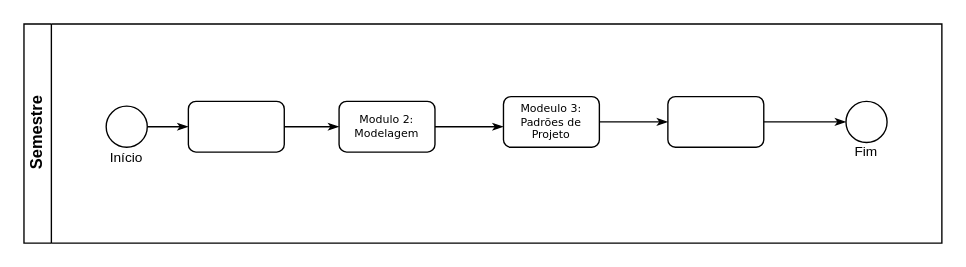
Image size: 966x267. Some labels were removed from this diagram. Here are the shapes that lost their labels. From the top down, the centre of each, then its label:
pixel 235 126: Modulo 1: Base
pixel 715 121: Modulo 4: Arquitetura e Reutilização de Software
